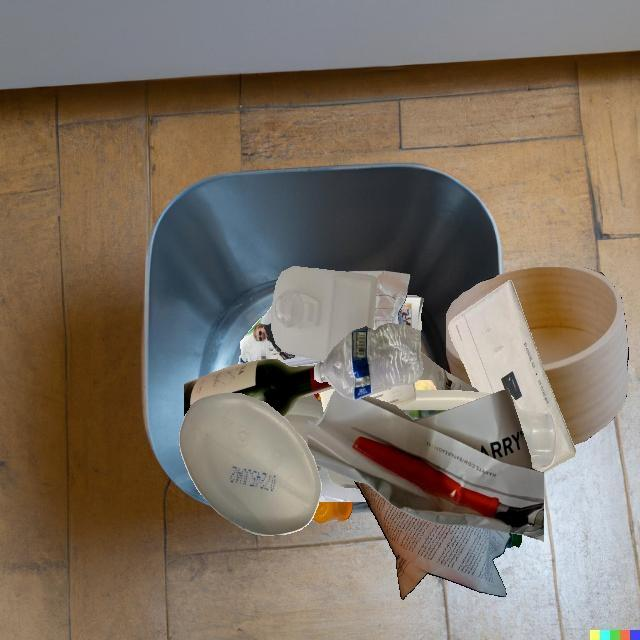biowaste: (414, 380, 437, 391)
combustible waste: (446, 267, 628, 445)
glass: (184, 359, 334, 418)
paper: (308, 388, 544, 542), (448, 281, 576, 472), (354, 480, 510, 600), (346, 271, 410, 331), (239, 306, 294, 364), (316, 364, 414, 390), (418, 352, 479, 392), (367, 382, 416, 407), (398, 295, 423, 332)
plastic: (179, 393, 322, 536), (359, 407, 524, 489), (280, 361, 366, 502), (271, 266, 377, 361), (314, 323, 423, 400), (284, 394, 324, 447), (318, 467, 366, 502), (312, 502, 352, 524), (279, 356, 324, 367), (506, 533, 522, 548)
